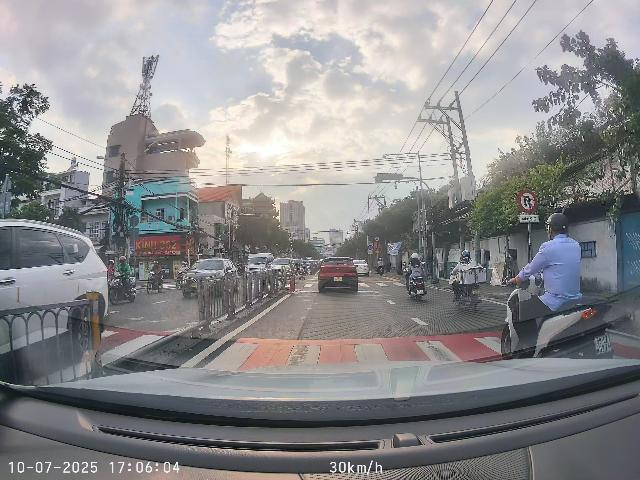124b-cam-oto-quay-dau-xe: (517, 190, 537, 213)
